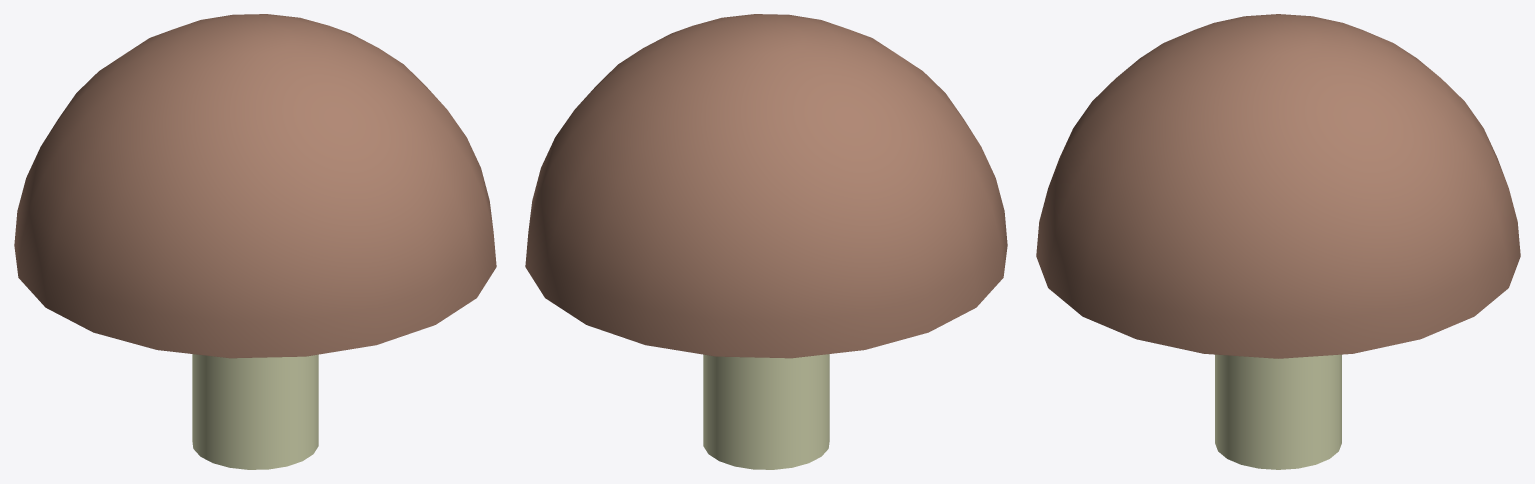
The model's file is mushroom.fbx.
3 renders of one model, left to right at view 1: azimuth 30°, elevation 25°; view 2: azimuth 150°, elevation 25°; view 3: azimuth 270°, elevation 25°, orthographic.
Visible parts, largest first — view 1: polySurface1; view 2: polySurface1; view 3: polySurface1.
Part boxes in pixels (x1,y1,x2,y2): polySurface1: [14, 14, 496, 469]; polySurface1: [525, 14, 1007, 469]; polySurface1: [1036, 14, 1520, 469].
Size of the model in its own units: 76.3 by 70.65 by 76.3.
